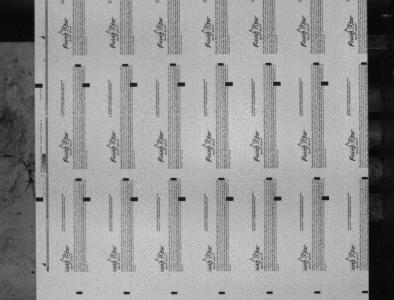backgroundclutter: (31, 271, 35, 274)
qblock: (226, 196, 234, 201), (274, 196, 282, 201), (35, 83, 43, 88), (178, 196, 186, 201), (83, 197, 91, 202), (273, 81, 281, 86), (130, 82, 138, 87), (321, 81, 329, 86), (178, 82, 186, 87), (36, 197, 43, 202), (322, 196, 330, 200), (82, 83, 90, 87), (131, 197, 138, 201), (226, 82, 233, 86)
smallqblock: (219, 177, 225, 181), (75, 178, 82, 181), (362, 290, 369, 293), (266, 177, 273, 180), (122, 64, 129, 67), (171, 291, 178, 294), (362, 176, 369, 179), (219, 291, 226, 294), (123, 291, 130, 294), (76, 291, 83, 294), (123, 178, 129, 181), (171, 178, 177, 181), (315, 177, 321, 180), (315, 291, 321, 294), (170, 63, 176, 66), (218, 63, 224, 66), (75, 64, 81, 67), (266, 62, 272, 65), (314, 62, 320, 65), (267, 291, 273, 294), (362, 62, 368, 65)
